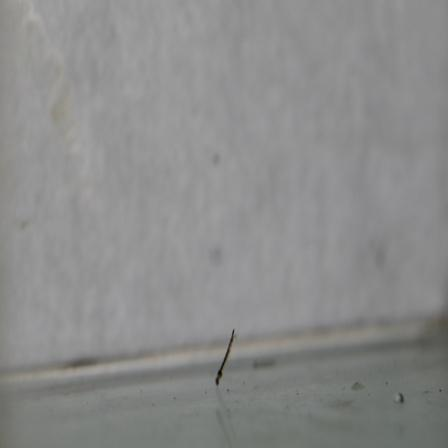Jentik-Nyamuk: (212, 325, 239, 388)
